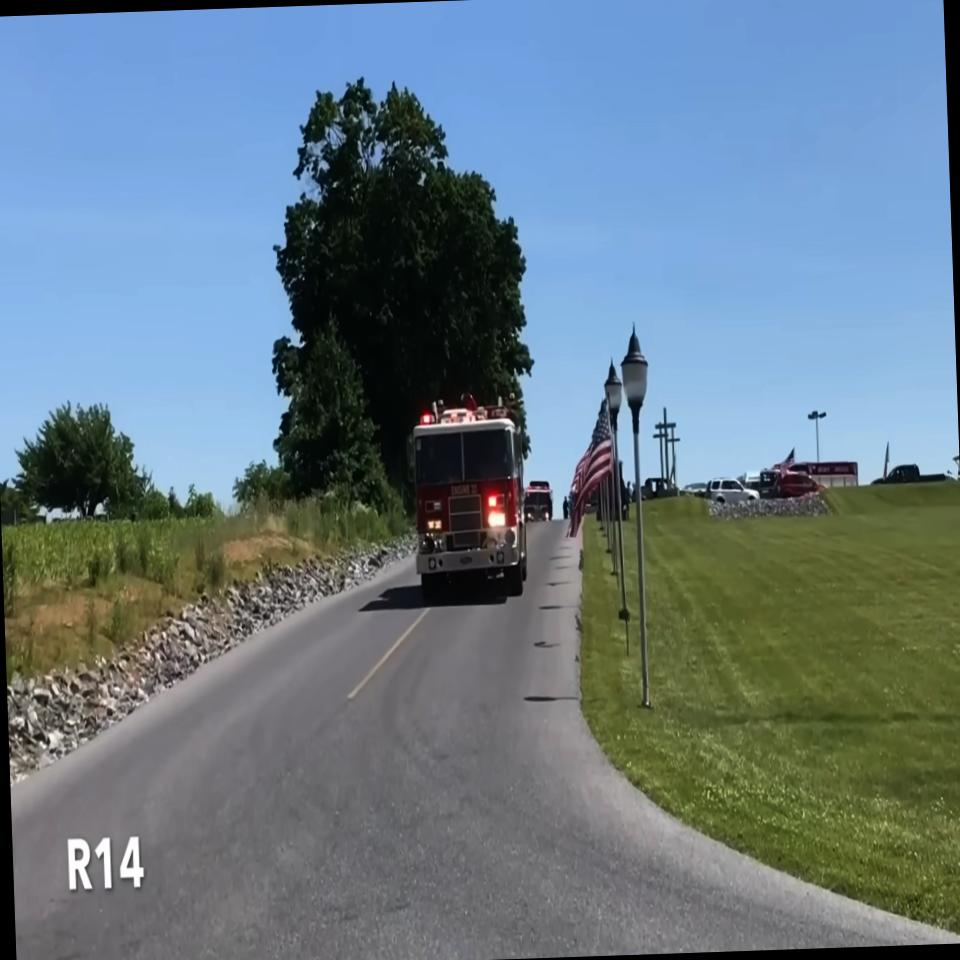viatura: (405, 396, 529, 598)
